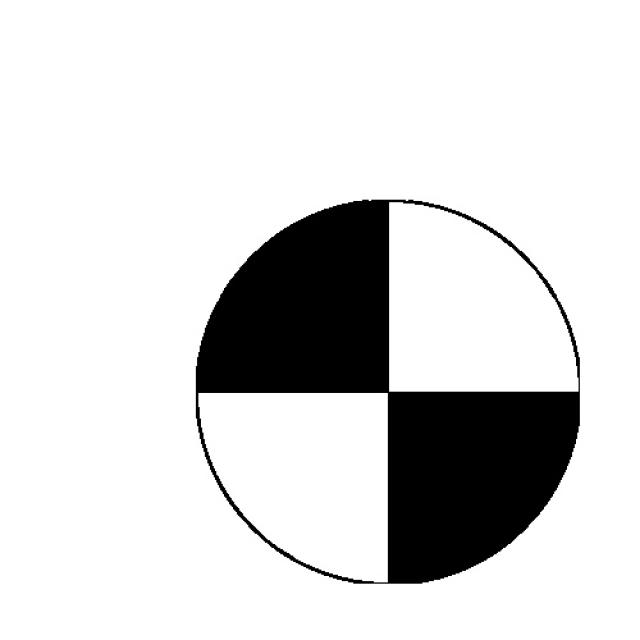Marcadores: (200, 199, 581, 585)
